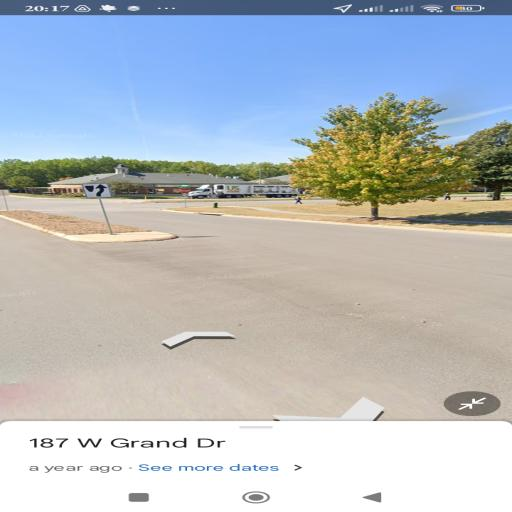Roads: (15, 196, 503, 413)
Trees: (249, 76, 466, 226)
